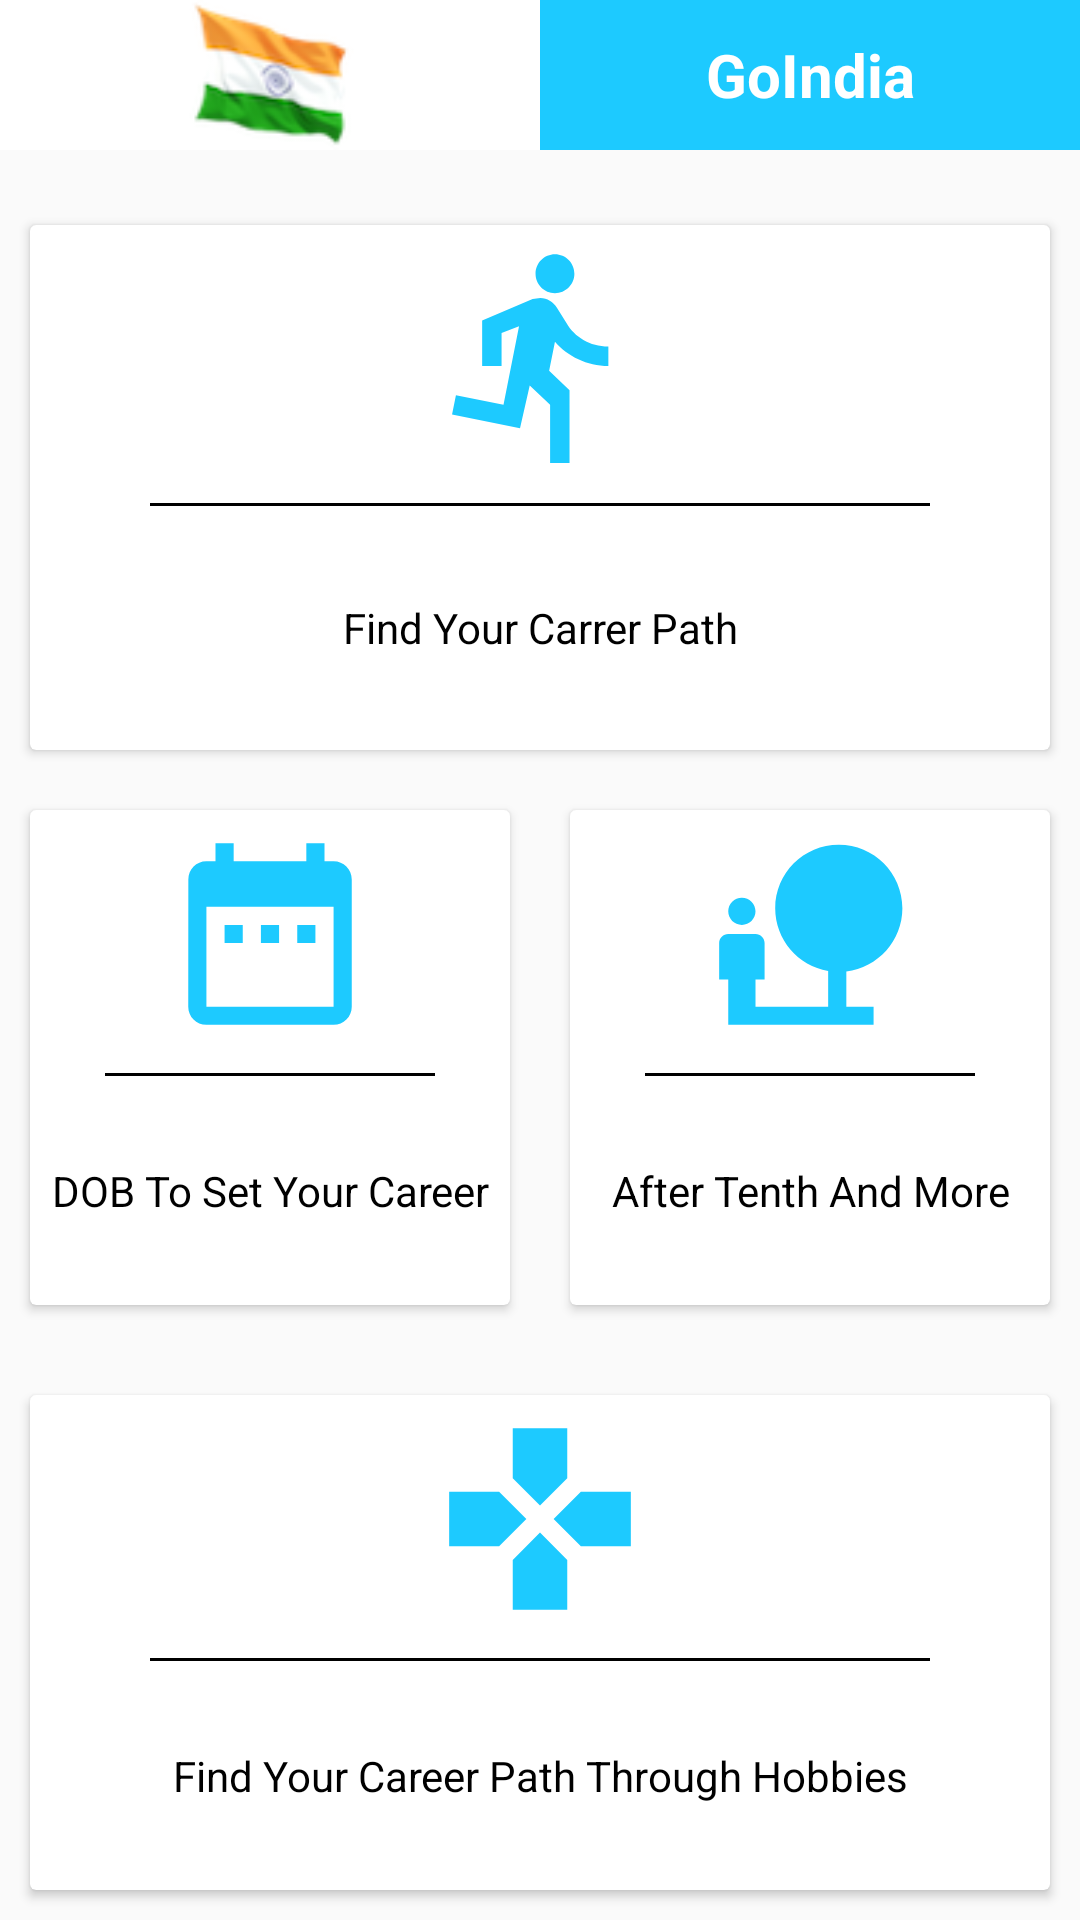

Where icons sit on this 1080 × 1920 app screen, as (x1, y1, x2, y2):
games: (449, 1428, 631, 1610)
